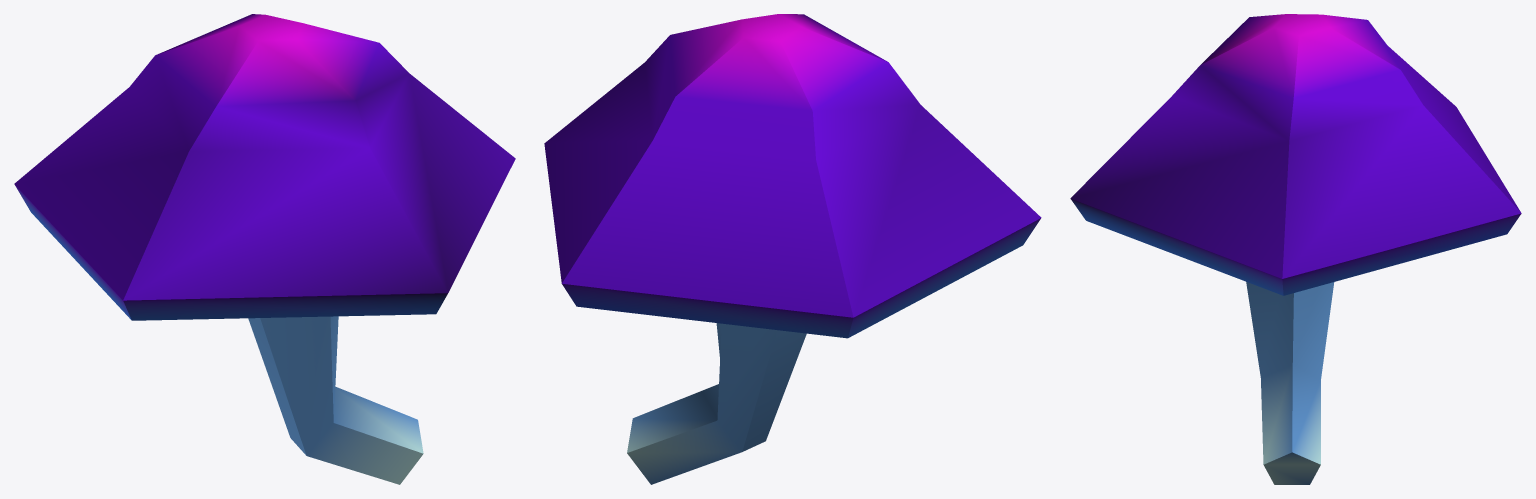
File: Mushroom.fbx
3 views of the same model, side by side, from view 1: azimuth 30°, elevation 25°; view 2: azimuth 150°, elevation 25°; view 3: azimuth 270°, elevation 25° (orthographic). The views are drawn at different scales.
Visible parts, largest first — view 1: polySurface3, polySurface4; view 2: polySurface3, polySurface4; view 3: polySurface3, polySurface4.
Part boxes in pixels (x1=…): polySurface3: x1=14, y1=14, x2=515, y2=320; polySurface4: x1=248, y1=316, x2=423, y2=484; polySurface3: x1=544, y1=14, x2=1041, y2=338; polySurface4: x1=627, y1=323, x2=806, y2=484; polySurface3: x1=1070, y1=14, x2=1521, y2=295; polySurface4: x1=1246, y1=281, x2=1334, y2=484.
Size of the model in its own units: 14.85 by 15.22 by 15.06.
